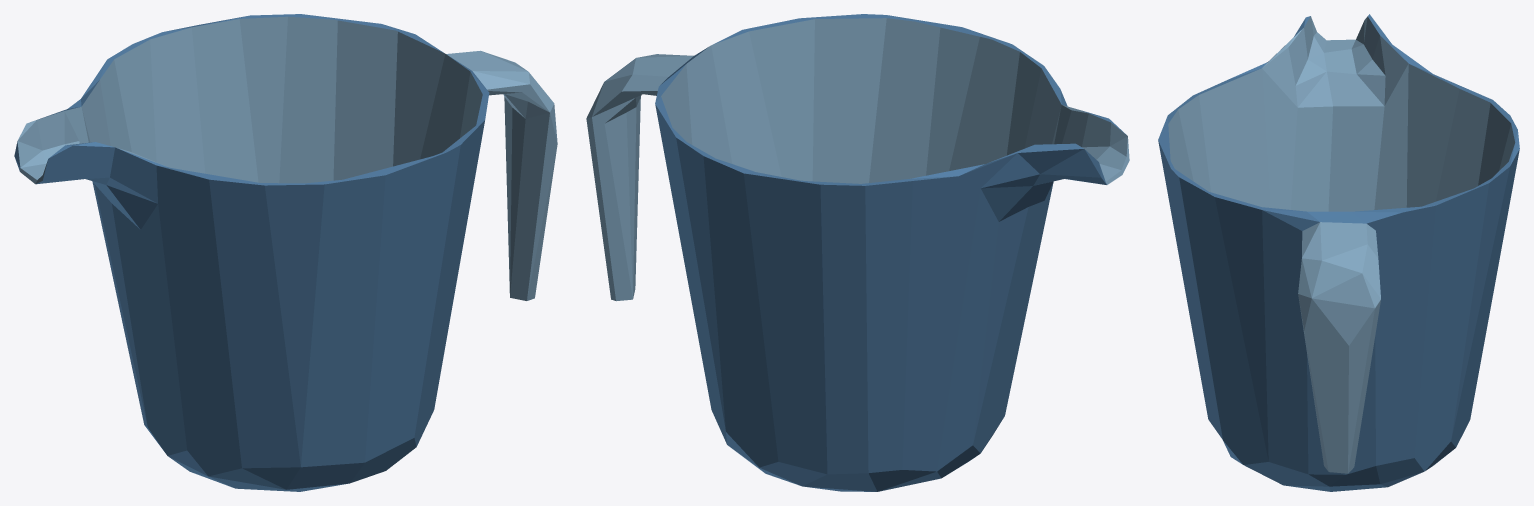
Rendered from MeasuringCup.fbx.
3 renders of one model, left to right at view 1: azimuth 30°, elevation 25°; view 2: azimuth 150°, elevation 25°; view 3: azimuth 270°, elevation 25°, orthographic. The views are drawn at different scales.
Visible parts, largest first — view 1: MeasuringCupLowPoly; view 2: MeasuringCupLowPoly; view 3: MeasuringCupLowPoly.
Part boxes in pixels (<box>): MeasuringCupLowPoly: <box>14,14,557,491</box>; MeasuringCupLowPoly: <box>586,14,1129,491</box>; MeasuringCupLowPoly: <box>1158,14,1519,491</box>.
Bounding box in the file's own units: 21.08 × 14.93 × 14.37.
